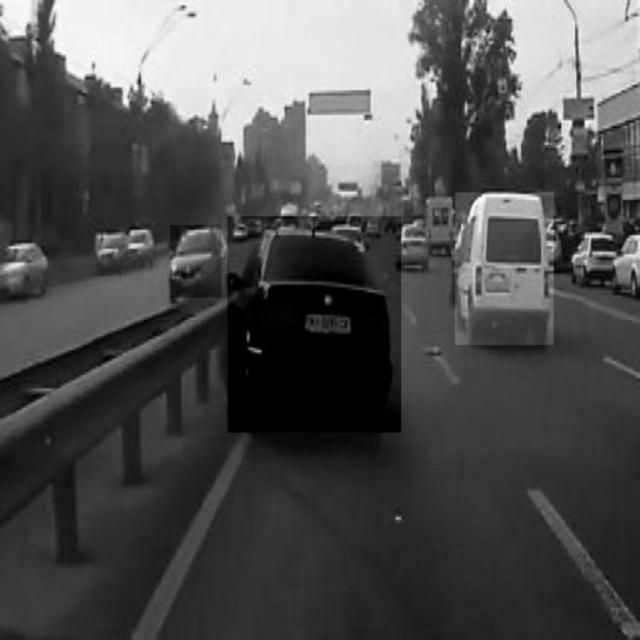accident: (228, 217, 402, 433)
vehicle: (455, 192, 553, 346), (170, 225, 221, 298)
